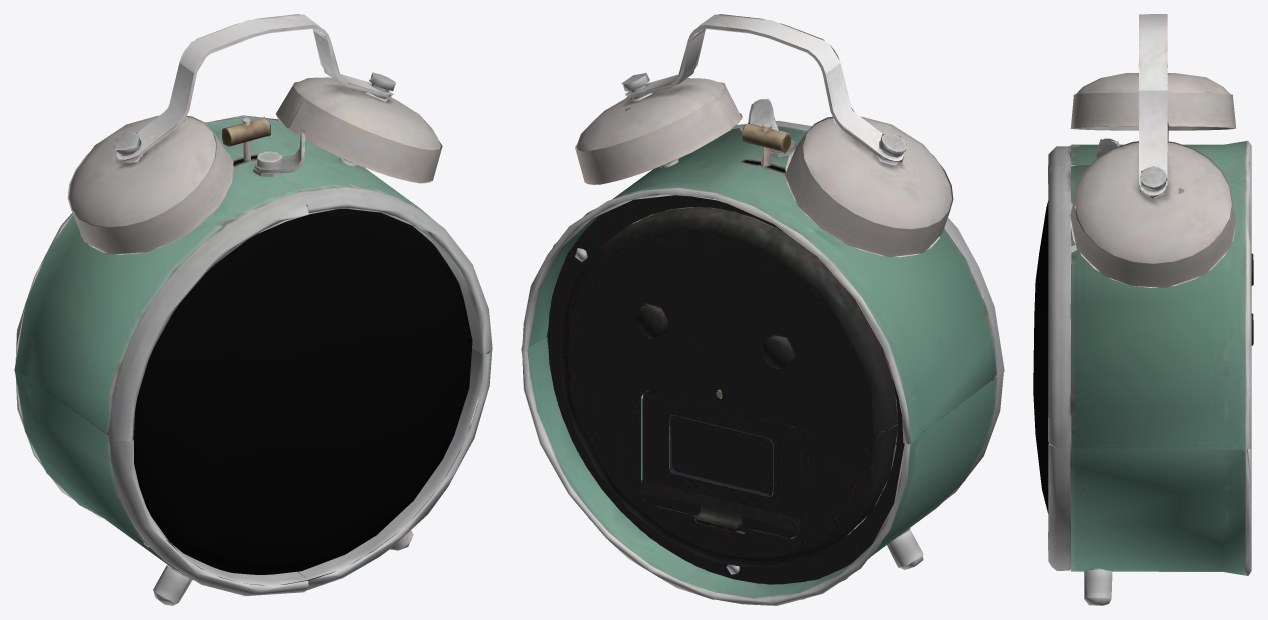
The model's file is clock.glb.
The picture shows the model from 3 angles, left to right: view 1: azimuth 30°, elevation 25°; view 2: azimuth 150°, elevation 25°; view 3: azimuth 270°, elevation 25°; orthographic projection. The views are drawn at different scales.
Visible parts, largest first — view 1: alarm_clock_01; view 2: alarm_clock_01; view 3: alarm_clock_01.
Part boxes in pixels (x1=…): alarm_clock_01: x1=14, y1=14, x2=492, y2=605; alarm_clock_01: x1=521, y1=14, x2=1004, y2=605; alarm_clock_01: x1=1033, y1=14, x2=1253, y2=605.
Size of the model in its own units: 0.1321 by 0.1743 by 0.0667.
2 materials, 2 textured.
